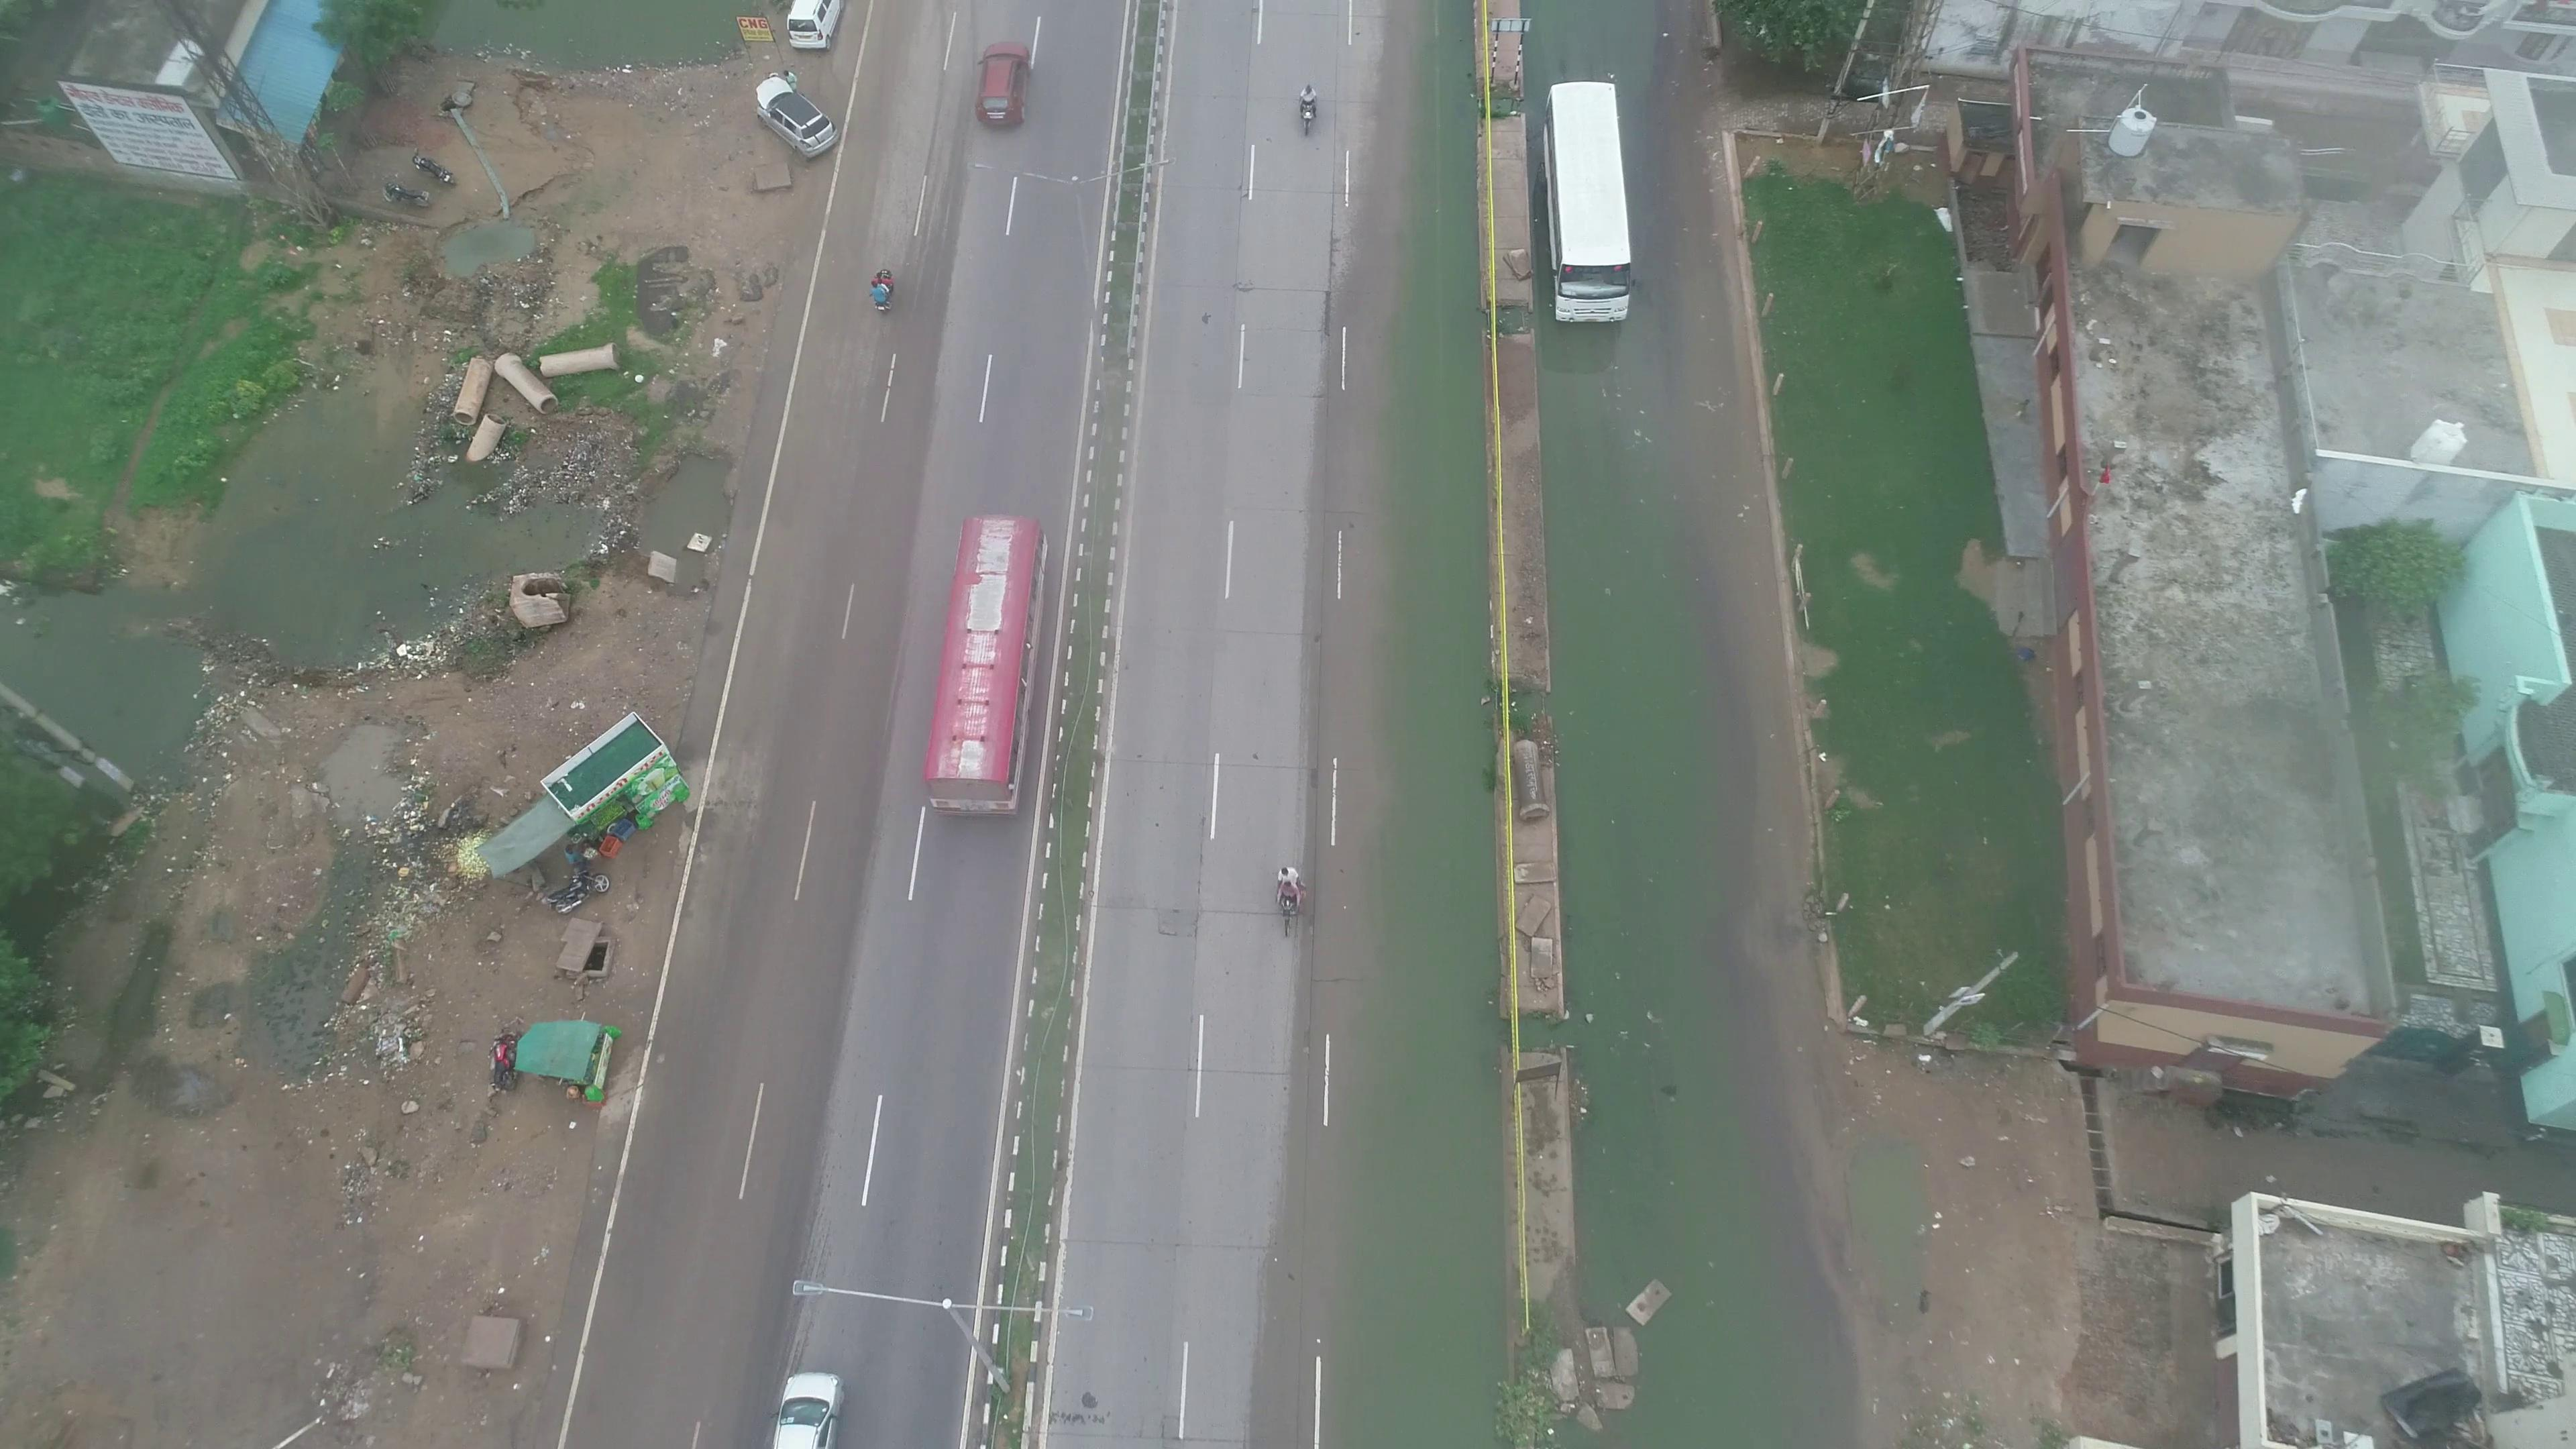Waterlogging: (1583, 872, 1801, 1398), (1352, 653, 1488, 1421), (1532, 356, 1707, 856), (1343, 44, 1488, 593)
